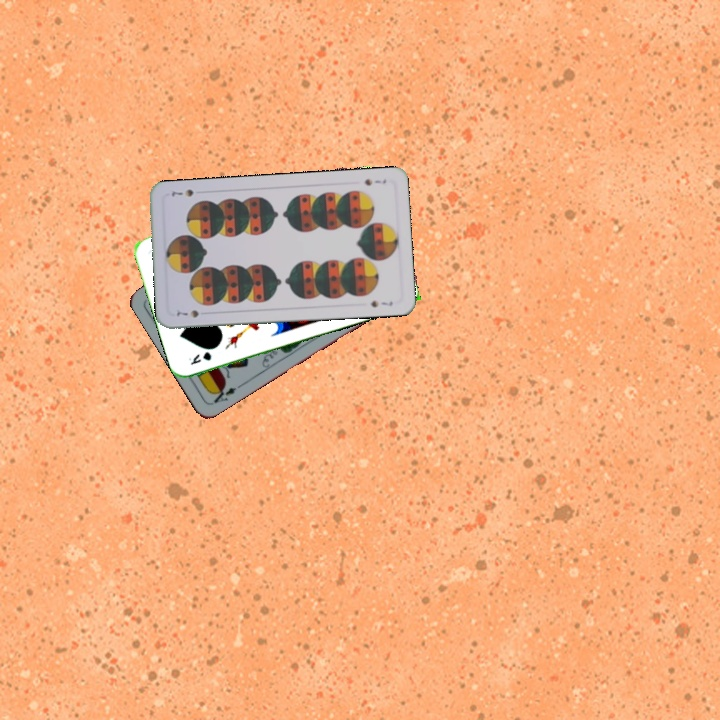EA: (208, 381, 239, 407)
GK: (185, 347, 214, 368)
S7: (172, 306, 201, 320), (360, 175, 388, 188)
